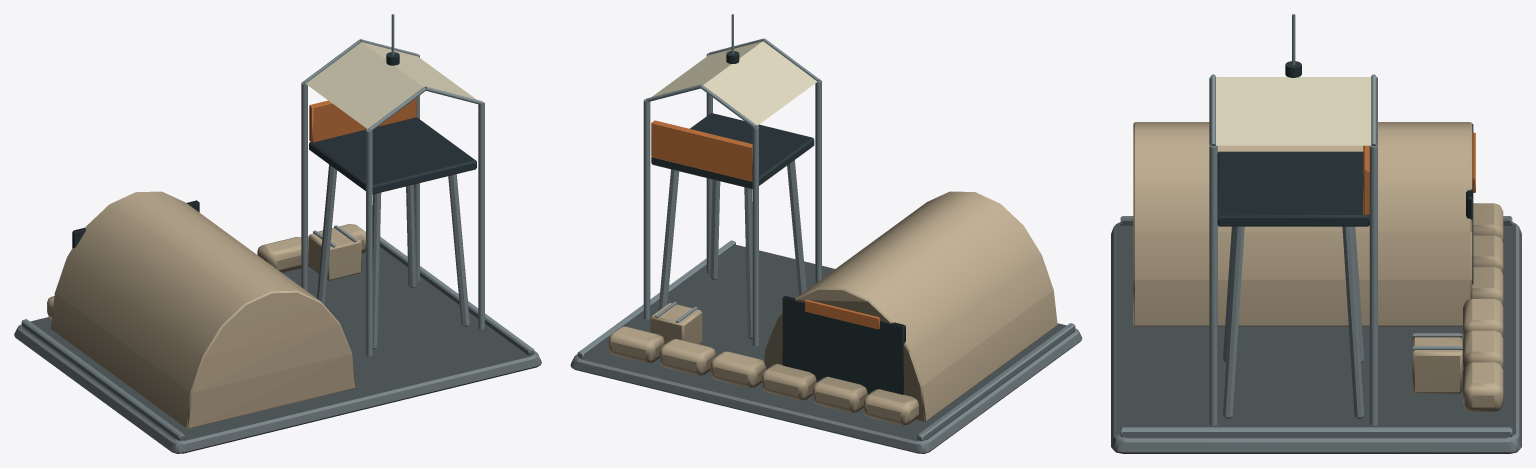
File: RangerCamp.glb
3 renders of one model, left to right at view 1: azimuth 30°, elevation 25°; view 2: azimuth 150°, elevation 25°; view 3: azimuth 270°, elevation 25°, orthographic. The views are drawn at different scales.
Visible parts, largest first — view 1: export_RangerCamp_GravelPad; view 2: export_RangerCamp_GravelPad; view 3: export_RangerCamp_GravelPad.
Part boxes in pixels (x1,y1,x2,y2): export_RangerCamp_GravelPad: (14,14,541,453); export_RangerCamp_GravelPad: (570,14,1082,453); export_RangerCamp_GravelPad: (1111,14,1521,453).
Bounding box in the file's own units: 5.78 × 4.72 × 4.48.
